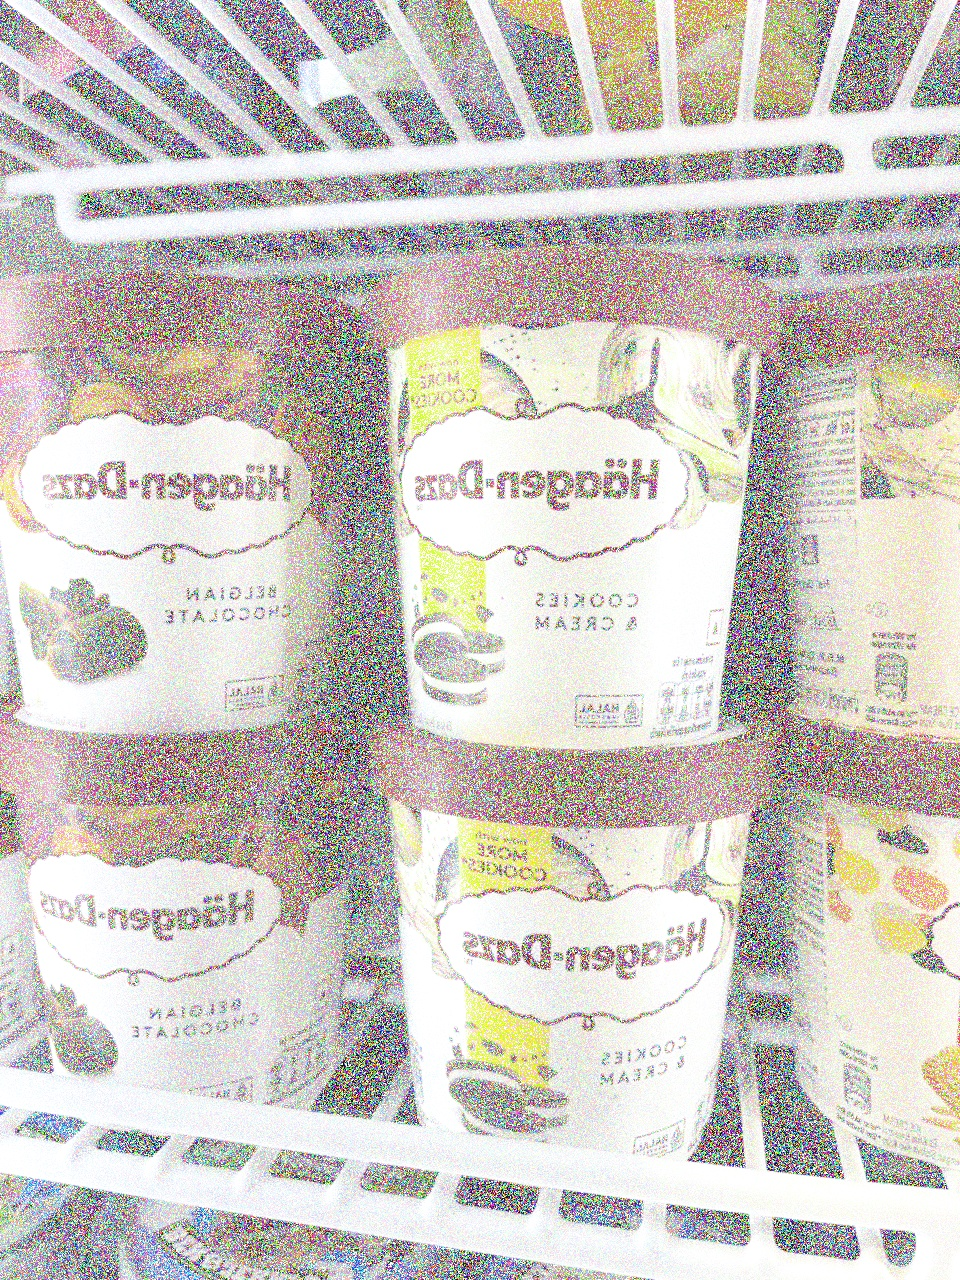Haagen-Dazs IceCream Tub: (377, 249, 802, 753), (1, 257, 364, 747), (367, 726, 771, 1163), (0, 719, 348, 1108)
